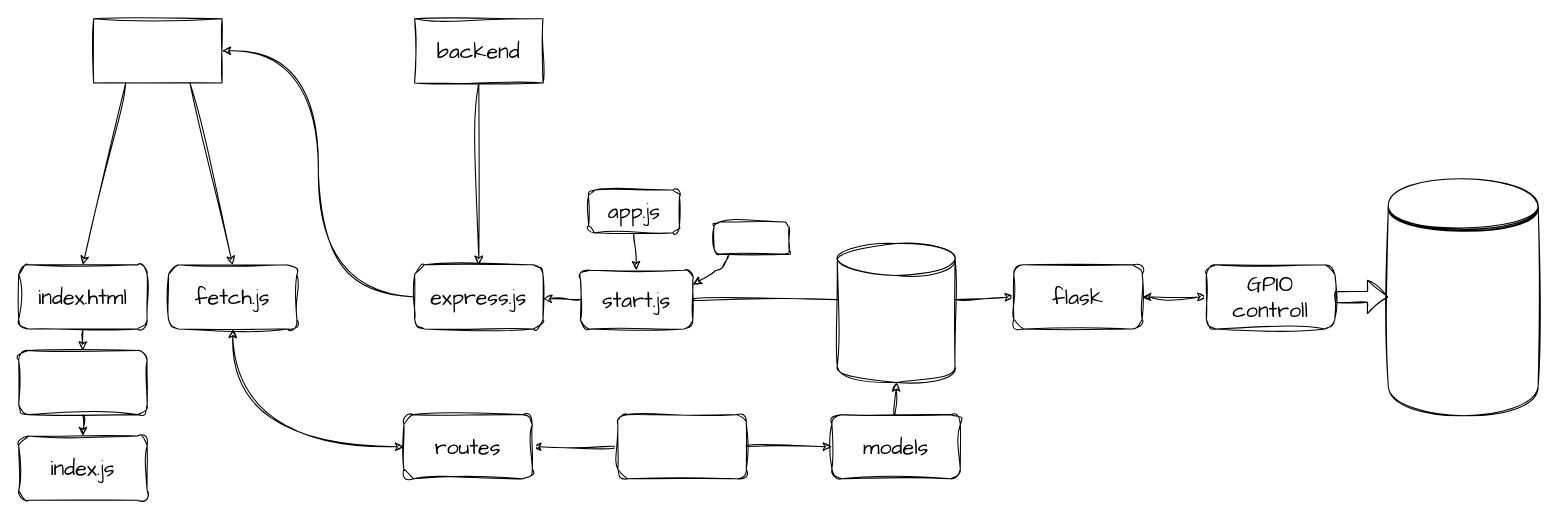
The diagram is 1557 pixels wide and 519 high, and some of its shapes have lost their labels. The shapes that lost their labels are listed below. From the top down, each one's centre as x and y in pixels, then its label:
pixel 157 50: client
pixel 751 237: .env
pixel 895 312: db
pixel 1462 296: Bioreactor
pixel 82 382: style.css
pixel 681 446: controllers
